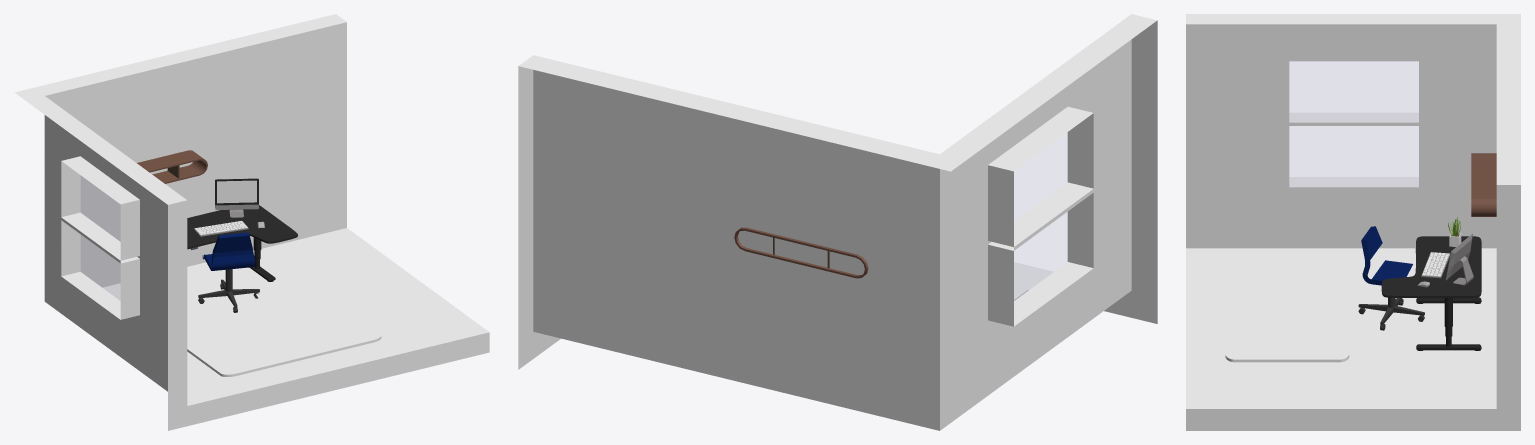
3 views of the same model, side by side, from view 1: azimuth 30°, elevation 25°; view 2: azimuth 150°, elevation 25°; view 3: azimuth 270°, elevation 25° (orthographic). The views are drawn at different scales.
Parts seen in each view (by area): view 1: Plane, WawaRug, Desk, Chair, iMac, SM_Shelf:SM_Shelf1, keyboard; view 2: Plane, SM_Shelf:SM_Shelf1; view 3: Plane, WawaRug, Desk, Chair, SM_Shelf:SM_Shelf1, iMac, keyboard.
Part boxes in pixels (x1,y1,x2,y2): Plane: (14,14,489,430); WawaRug: (187,297,381,376); Desk: (187,205,297,281); Chair: (198,232,259,312); iMac: (215,178,259,217); SM_Shelf:SM_Shelf1: (137,150,207,183); keyboard: (194,221,248,236); Plane: (518,14,1157,430); SM_Shelf:SM_Shelf1: (734,227,868,278); Plane: (1186,14,1520,430); WawaRug: (1225,274,1349,362); Desk: (1381,236,1481,350); Chair: (1358,226,1424,330); SM_Shelf:SM_Shelf1: (1471,153,1496,216); iMac: (1445,234,1473,285); keyboard: (1421,252,1450,278).
Size of the model in its own units: 5.72 by 3.84 by 4.74.
